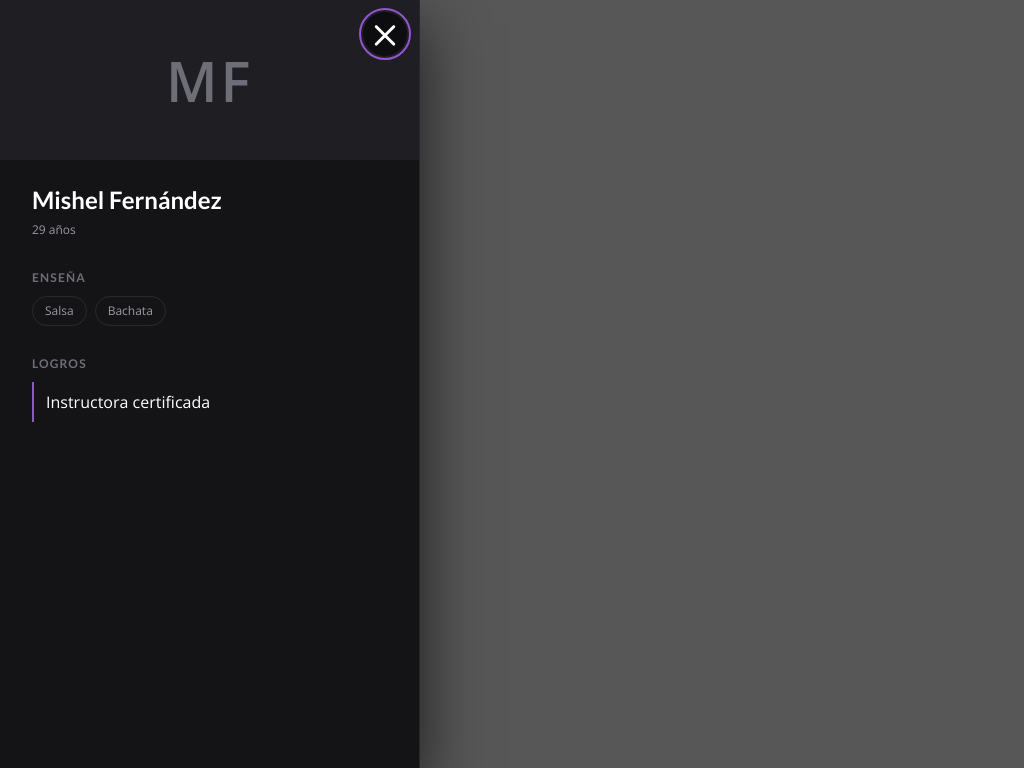
Test case: TeacherProfileOverlay › closes a link it did not open in place, keeping any other parameter
Click the button named "Cerrar" at [385, 34], box [363,12,407,56]
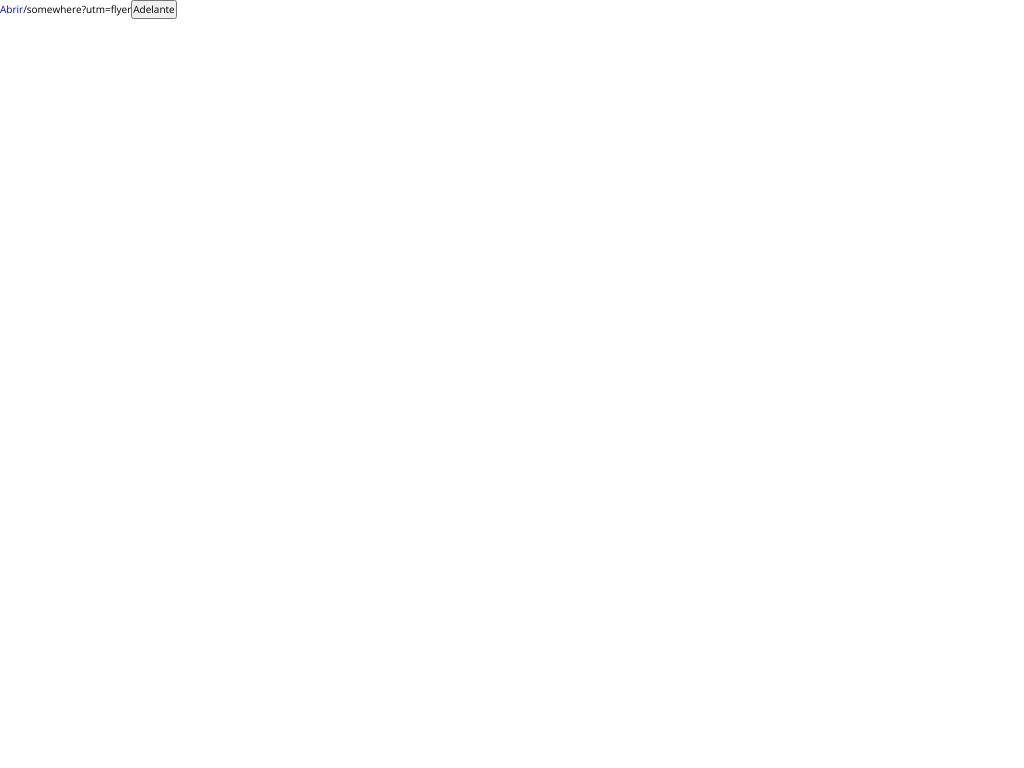
Result: the dialog is gone
Result: the text with test id "location" reads "/somewhere?utm=flyer" at [23,2,131,16]
